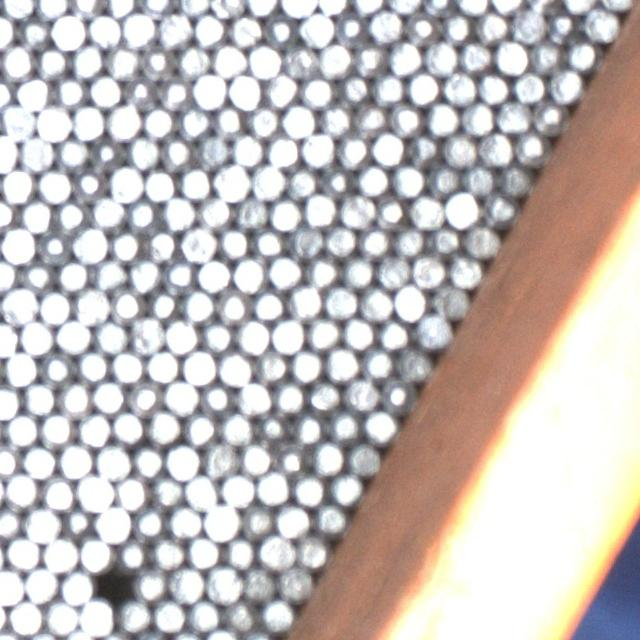tool: (95, 506, 131, 542), (146, 408, 182, 444), (258, 533, 294, 569), (18, 134, 54, 170), (393, 283, 429, 319), (76, 474, 112, 510), (34, 104, 70, 140), (94, 444, 130, 480), (185, 533, 221, 569), (432, 282, 468, 318), (414, 312, 450, 348), (42, 536, 77, 572), (206, 566, 241, 602), (220, 472, 255, 508), (24, 566, 59, 602), (40, 474, 75, 510), (169, 566, 204, 602), (7, 598, 42, 634), (58, 442, 93, 478), (343, 376, 378, 411), (203, 441, 238, 476), (222, 535, 257, 570), (326, 408, 361, 443), (270, 317, 305, 352), (239, 502, 274, 537), (395, 346, 430, 381), (92, 378, 126, 414), (22, 380, 56, 416), (232, 256, 266, 292), (182, 348, 216, 384), (198, 256, 232, 292), (56, 134, 90, 170), (406, 70, 440, 106), (478, 130, 512, 166), (74, 288, 108, 324), (106, 104, 140, 140), (58, 382, 92, 418), (242, 564, 276, 600), (114, 474, 148, 510), (94, 318, 128, 354), (166, 442, 200, 478), (0, 166, 34, 202), (210, 43, 246, 77), (20, 318, 54, 354), (339, 192, 373, 228), (214, 164, 248, 200), (78, 536, 112, 571), (282, 103, 316, 138), (77, 411, 111, 446), (254, 348, 288, 383), (0, 104, 34, 139), (184, 474, 218, 509), (24, 506, 59, 540), (323, 284, 358, 318), (371, 131, 405, 166), (247, 43, 281, 78), (164, 379, 198, 414), (411, 252, 445, 287), (359, 286, 394, 320), (193, 11, 227, 46), (442, 132, 477, 166), (194, 133, 229, 167), (4, 472, 38, 507), (150, 535, 184, 570), (359, 346, 394, 380), (288, 284, 322, 319), (132, 506, 166, 541), (409, 194, 444, 228), (39, 412, 74, 446), (192, 72, 226, 107), (129, 317, 163, 352), (324, 346, 358, 381), (377, 316, 411, 351), (19, 258, 54, 292), (22, 443, 56, 478), (278, 565, 312, 600), (236, 379, 270, 414), (423, 40, 458, 74), (38, 349, 72, 384), (373, 194, 408, 228), (352, 41, 386, 76), (362, 408, 397, 442), (90, 135, 124, 170), (7, 534, 40, 570), (582, 7, 618, 40), (218, 350, 252, 384), (168, 504, 202, 538), (2, 288, 36, 322), (356, 162, 390, 196), (1, 228, 35, 262), (496, 99, 530, 133), (78, 600, 112, 634), (376, 254, 410, 288), (426, 101, 460, 135), (230, 132, 264, 166), (230, 12, 264, 46), (126, 134, 160, 168), (4, 412, 38, 446), (318, 102, 352, 136), (204, 504, 238, 538), (217, 225, 251, 259), (272, 380, 306, 414), (143, 228, 177, 262), (268, 254, 302, 288), (180, 287, 214, 321), (44, 600, 78, 634), (370, 71, 404, 105), (276, 503, 310, 537), (73, 228, 107, 262), (128, 257, 162, 291), (16, 76, 50, 110), (300, 132, 334, 166), (180, 226, 214, 260), (252, 287, 286, 321), (282, 44, 316, 78), (56, 258, 90, 292), (335, 134, 369, 168), (110, 410, 144, 444), (108, 228, 142, 262), (306, 316, 340, 350), (460, 101, 494, 135), (512, 70, 546, 104), (53, 74, 87, 108), (353, 103, 387, 137), (92, 258, 126, 292), (510, 7, 544, 41), (108, 288, 142, 322), (220, 411, 254, 445), (18, 198, 52, 232), (200, 382, 234, 416), (358, 224, 392, 258), (292, 472, 326, 506), (54, 198, 88, 232), (128, 380, 162, 414), (306, 255, 340, 289), (307, 379, 341, 413), (3, 350, 37, 384), (70, 44, 104, 78), (368, 9, 402, 43), (300, 12, 334, 46), (323, 222, 357, 256), (51, 14, 85, 48), (228, 74, 262, 108), (252, 225, 286, 259), (310, 440, 344, 474), (76, 348, 110, 382), (234, 195, 268, 229), (215, 288, 249, 322), (474, 8, 508, 42), (116, 599, 150, 633), (183, 412, 217, 446), (300, 74, 334, 108), (407, 132, 441, 166), (477, 70, 511, 104), (462, 162, 496, 196), (427, 162, 461, 196), (428, 222, 462, 256), (404, 10, 438, 44), (256, 470, 290, 504), (458, 39, 492, 73), (266, 133, 300, 167), (152, 598, 186, 632), (198, 195, 232, 229), (133, 566, 167, 600), (442, 70, 476, 104), (34, 45, 68, 79), (122, 12, 156, 46), (56, 318, 90, 352), (284, 164, 318, 198), (295, 532, 329, 566), (391, 162, 425, 196), (178, 166, 212, 200), (176, 43, 210, 77), (250, 164, 284, 198), (239, 440, 273, 474), (291, 410, 325, 444), (108, 166, 142, 200), (341, 315, 375, 349), (302, 192, 336, 226), (186, 598, 220, 632), (38, 289, 72, 323), (235, 318, 269, 352), (37, 168, 71, 202), (145, 286, 179, 320), (444, 192, 478, 226), (160, 196, 194, 230), (494, 40, 528, 74), (110, 349, 144, 383), (388, 102, 422, 136), (388, 40, 422, 74), (60, 569, 94, 603), (341, 254, 375, 288), (87, 12, 121, 46), (335, 71, 369, 105), (264, 72, 298, 106), (288, 224, 322, 258), (224, 598, 258, 632), (257, 409, 291, 443), (164, 318, 198, 352), (318, 163, 352, 197), (274, 442, 308, 476), (529, 38, 563, 72), (114, 536, 148, 570), (392, 222, 426, 256), (131, 444, 165, 478), (139, 46, 173, 80), (200, 318, 234, 352), (548, 68, 582, 102), (36, 232, 70, 266), (264, 13, 298, 47), (544, 8, 578, 42), (60, 504, 94, 538), (512, 132, 546, 166), (260, 597, 294, 631), (348, 442, 382, 476), (480, 192, 514, 226), (329, 471, 363, 505), (312, 502, 346, 536), (464, 224, 498, 258), (72, 104, 105, 139), (142, 106, 175, 140), (105, 45, 138, 79), (268, 197, 302, 230), (247, 104, 280, 138), (177, 106, 210, 140), (147, 348, 180, 382), (448, 254, 482, 287), (0, 45, 33, 79), (159, 136, 192, 170), (90, 195, 124, 228), (157, 13, 191, 46), (88, 74, 121, 108), (150, 474, 183, 508), (289, 347, 322, 381), (125, 74, 158, 108), (143, 167, 176, 201), (210, 105, 244, 138), (17, 16, 51, 49), (440, 10, 473, 44), (162, 258, 195, 292), (71, 169, 105, 202), (126, 197, 159, 230), (531, 99, 564, 132), (158, 76, 190, 110), (334, 11, 366, 45), (318, 42, 350, 76), (379, 376, 411, 410), (500, 163, 532, 196), (566, 38, 598, 70), (0, 568, 23, 604), (0, 506, 23, 540), (0, 442, 20, 476), (0, 384, 19, 419), (34, 0, 68, 19), (0, 321, 18, 356), (0, 257, 18, 291), (1, 0, 34, 18), (210, 0, 244, 17), (68, 0, 102, 17), (0, 135, 16, 171), (246, 0, 280, 16), (175, 0, 209, 16), (104, 0, 138, 16), (420, 0, 454, 16), (138, 0, 172, 16), (0, 197, 16, 230), (0, 13, 15, 48), (350, 0, 384, 15), (282, 0, 316, 15), (386, 0, 420, 15), (315, 0, 348, 15), (526, 0, 560, 14), (0, 78, 14, 110), (456, 0, 490, 13)
